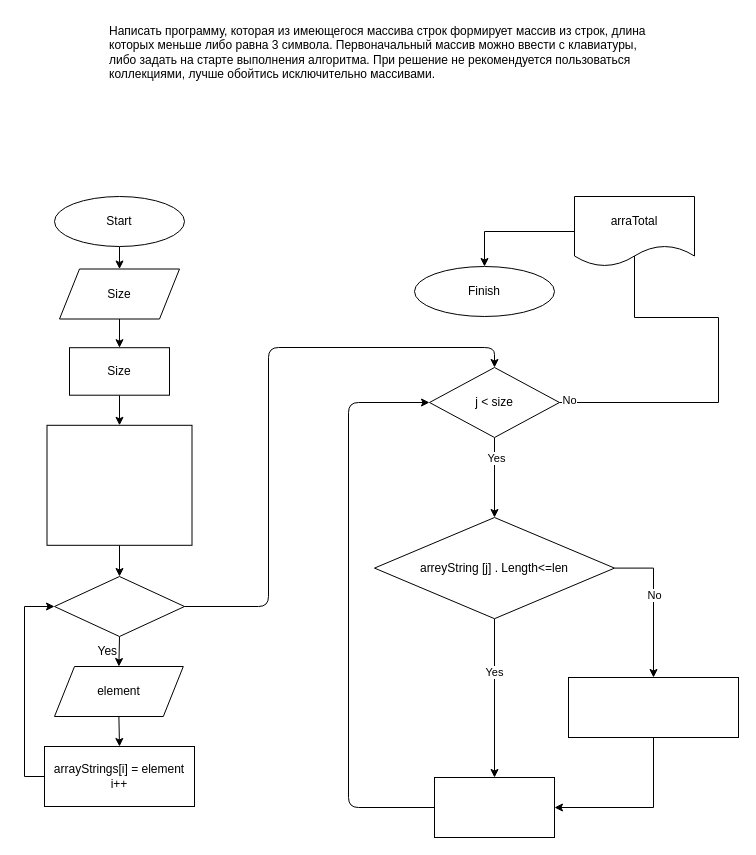
The diagram is 756 pixels wide and 855 high, and some of its shapes have lost their labels. Each missing label, with the centre of its shape:
"arrayString[size] arreyTotal[size] element i = 0 j = 0 len = 3 pos = 0" goes at (x=119, y=484).
"arreyTotal[pos]=arreyString[j] pos ++" goes at (x=653, y=707).
"i < size" goes at (x=119, y=606).
"j ++" goes at (x=494, y=807).
